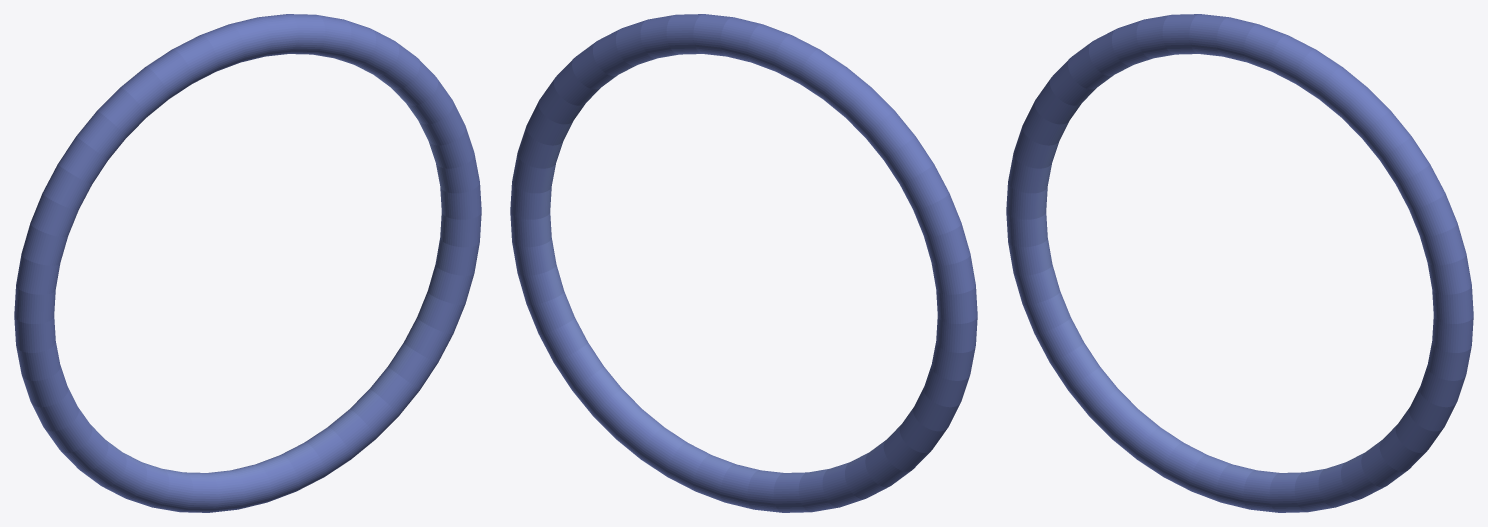
3 renders of one model, left to right at view 1: azimuth 30°, elevation 25°; view 2: azimuth 150°, elevation 25°; view 3: azimuth 330°, elevation 25°, orthographic.
Parts seen in each view (by area): view 1: world; view 2: world; view 3: world.
Part boxes in pixels (<box>): world: <box>14,14,481,512</box>; world: <box>510,14,977,512</box>; world: <box>1006,14,1473,512</box>.
Size of the model in its own units: 26.67 by 26.61 by 2.
